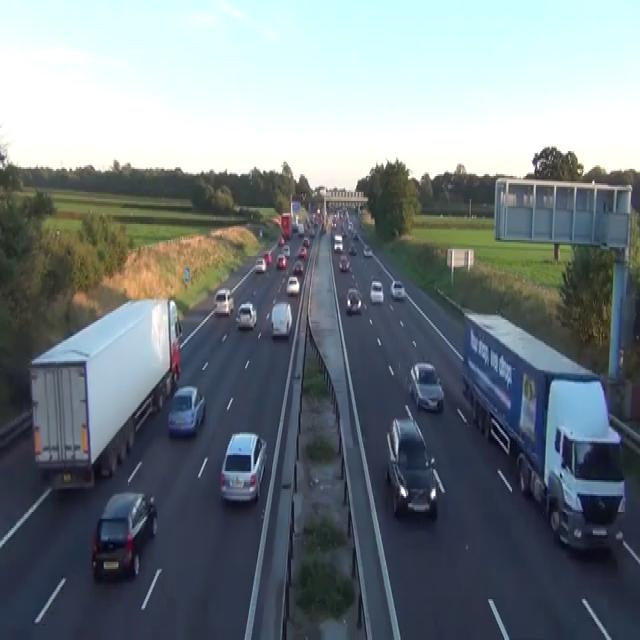Car: (280, 486, 368, 638), (91, 491, 157, 581), (385, 416, 437, 519), (219, 432, 267, 503), (167, 384, 205, 437), (409, 361, 444, 411), (270, 300, 292, 338), (235, 302, 257, 329), (213, 288, 234, 315), (345, 288, 362, 315), (171, 338, 181, 380), (370, 279, 384, 304), (390, 279, 405, 299), (286, 276, 299, 295), (338, 254, 350, 272), (254, 256, 266, 272), (333, 235, 343, 252), (276, 252, 286, 268), (292, 260, 303, 274), (298, 245, 307, 258), (363, 244, 372, 256), (263, 251, 272, 263), (297, 222, 304, 235), (282, 245, 290, 256), (348, 244, 356, 254), (320, 222, 326, 235), (277, 235, 284, 245), (302, 237, 309, 247), (291, 222, 298, 231), (347, 220, 353, 230), (352, 231, 358, 240), (309, 228, 315, 236), (342, 230, 347, 237), (259, 228, 262, 236)
Truck: (461, 311, 626, 553), (27, 295, 182, 491), (280, 212, 292, 238)
